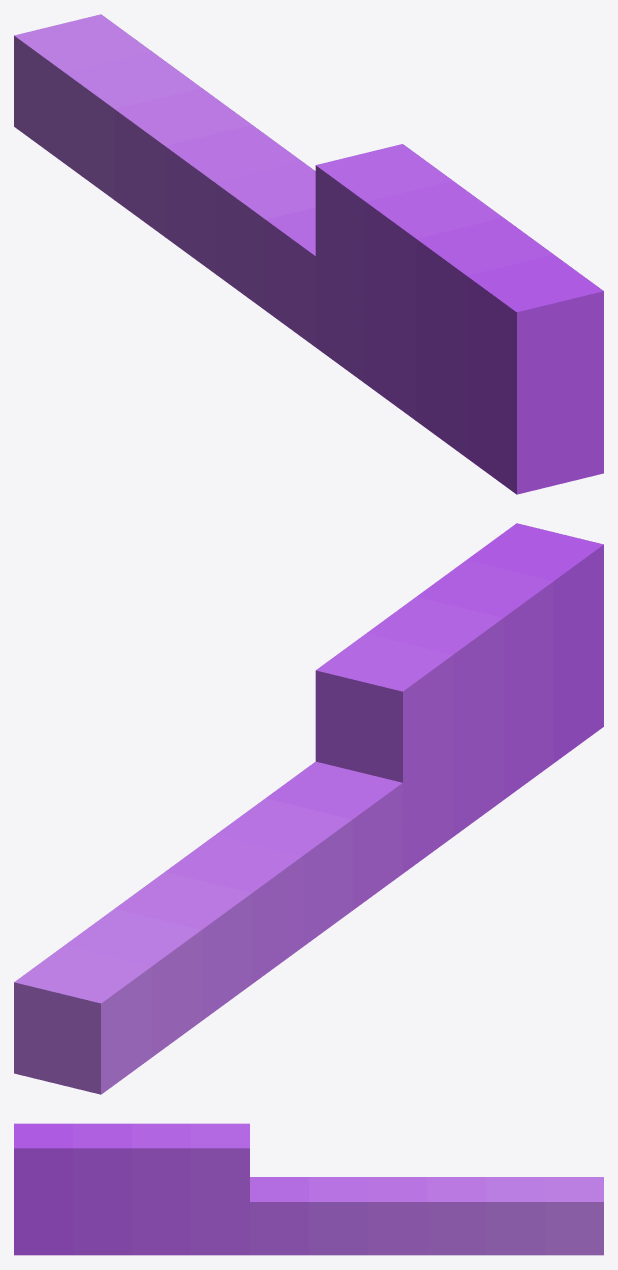
File: VoidLordLowerTentacleFront.obj
The picture shows the model from 3 angles, top to bottom: view 1: azimuth 30°, elevation 25°; view 2: azimuth 150°, elevation 25°; view 3: azimuth 270°, elevation 25°; orthographic projection. The views are drawn at different scales.
Visible parts, largest first — view 1: VoidLordLowerTentacleFront; view 2: VoidLordLowerTentacleFront; view 3: VoidLordLowerTentacleFront.
Boxes of the visible parts, x1=… form: VoidLordLowerTentacleFront: x1=14, y1=14, x2=603, y2=494; VoidLordLowerTentacleFront: x1=14, y1=523, x2=603, y2=1094; VoidLordLowerTentacleFront: x1=14, y1=1123, x2=603, y2=1255.
Size of the model in its own units: 1 by 2 by 10.
Materials: 1 (1 with a texture image).
